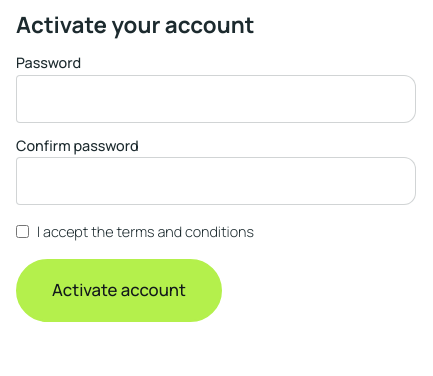
Test case: InviteActivationPage › shows "Invite not found." for an unknown token
The width and height of the screenshot is (433, 376).
Type "password1" into the password field labelled "Password" at (216, 99), box [16,75,416,123]
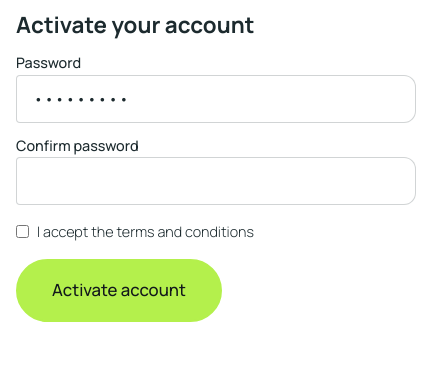
Type "password1" into the password field labelled "Confirm password" at (216, 181), box [16,157,416,205]
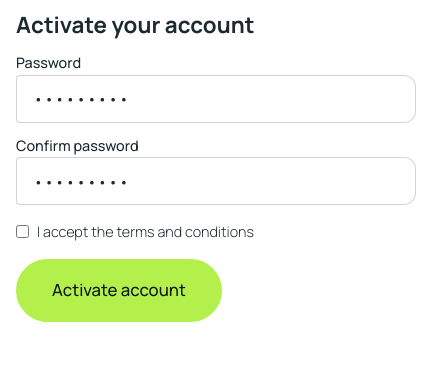
Click the checkbox labelled "I accept the terms and conditions" at (22, 232), box [16,226,29,238]
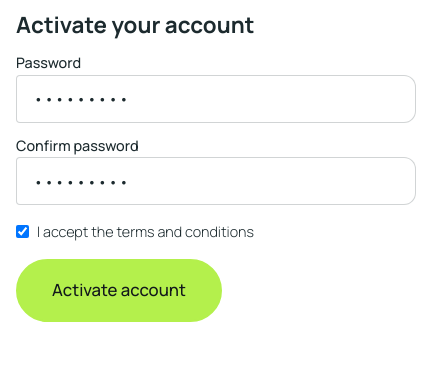
Click the button "Activate account" at (119, 290), box [16,259,222,322]
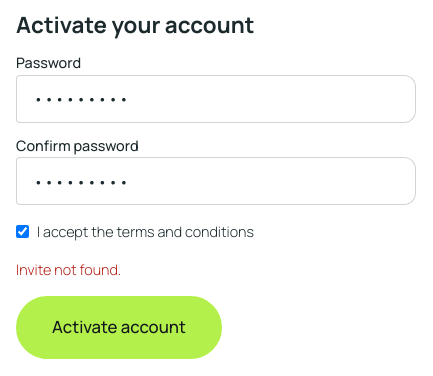
Expected: the text "Invite not found." is shown, [16,260,121,279]
